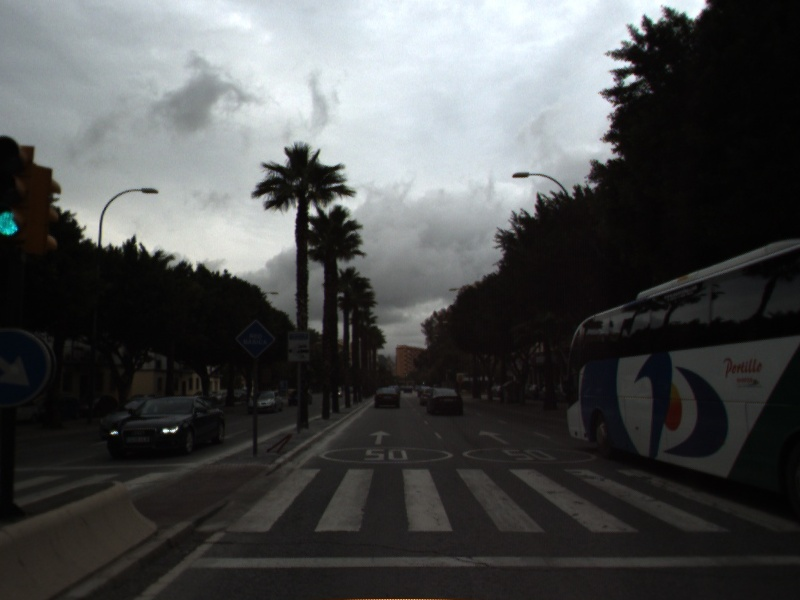STRAIGHT: (476, 427, 512, 447), (367, 428, 394, 447)
